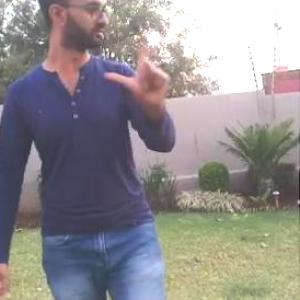land_hand: (103, 38, 174, 109)
